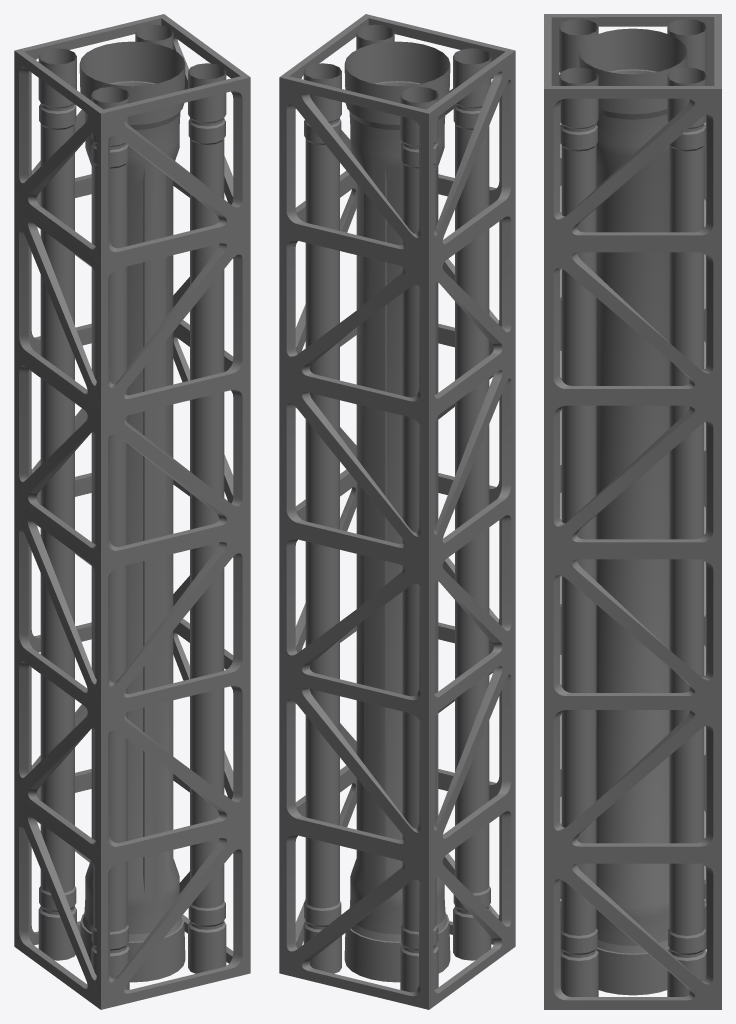
File: q-scifi-mod-column-pipes.glb
3 views of the same model, side by side, from view 1: azimuth 30°, elevation 25°; view 2: azimuth 150°, elevation 25°; view 3: azimuth 270°, elevation 25° (orthographic). The views are drawn at different scales.
Parts seen in each view (by area): view 1: Column_Pipes; view 2: Column_Pipes; view 3: Column_Pipes.
Boxes of the visible parts, box(x1,y1,x2,y2) form: Column_Pipes: box(14, 14, 250, 1009); Column_Pipes: box(279, 14, 515, 1009); Column_Pipes: box(544, 14, 721, 1009).
Bounding box in the file's own units: 0.8746 × 5 × 0.8746.
Materials: 3 (3 with a texture image).
